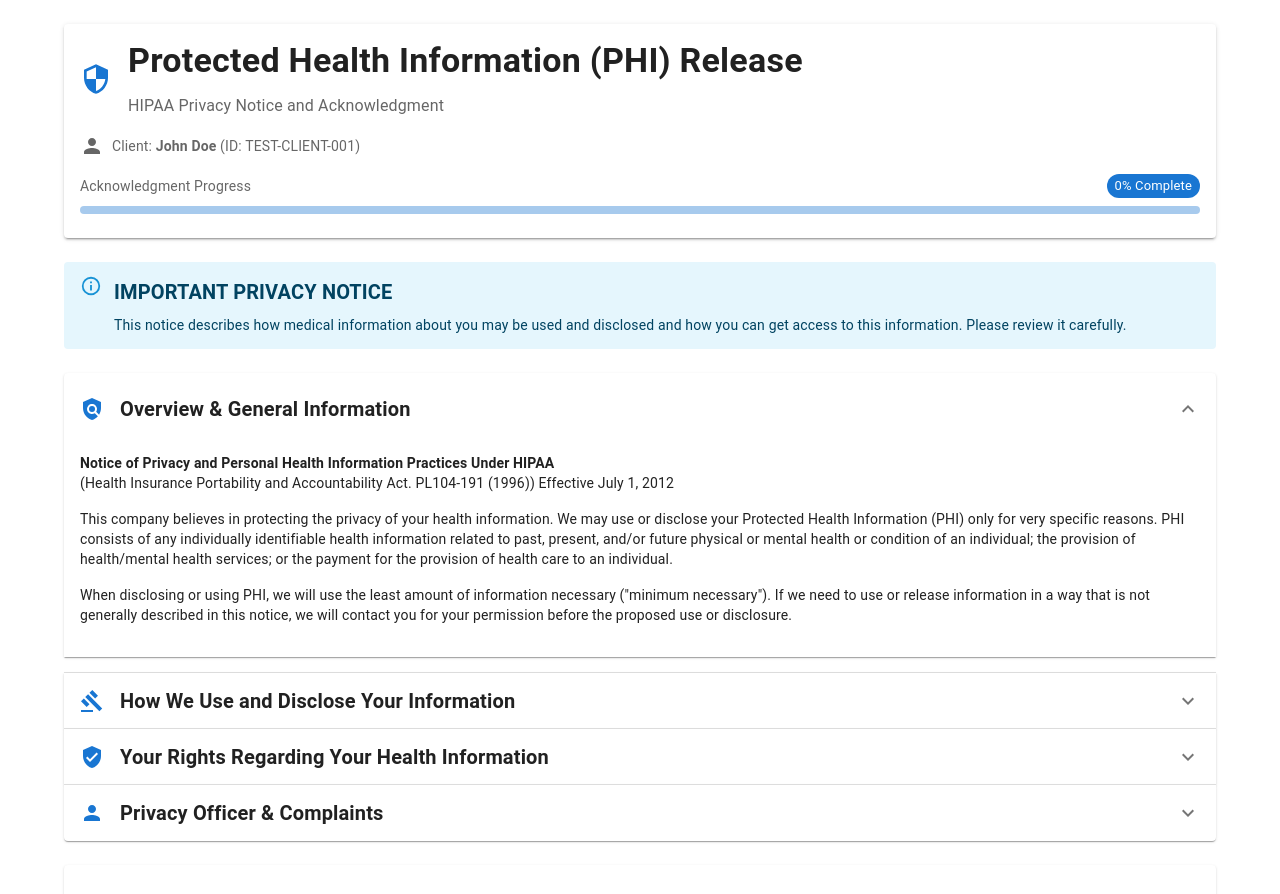
Test: ReleasePHI - Protected Health Information Release Form › Accordion Interaction › T9: displays patient rights when rights accordion is expanded
The width and height of the screenshot is (1280, 894).
Step 1. Click the button "Your Rights Regarding Your Health Information" → (334, 757), box top-left (64, 729), bottom-right (1216, 785)
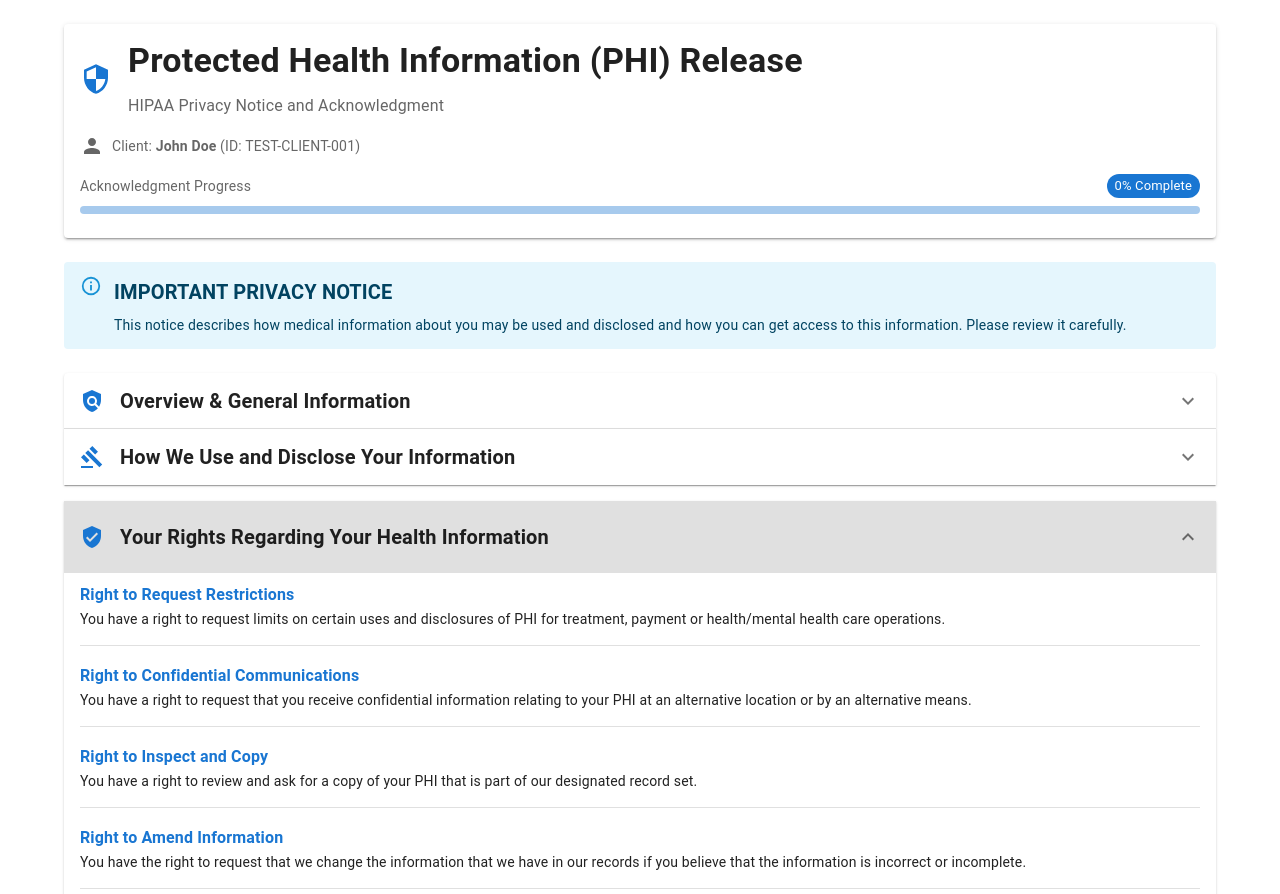
Expected: the heading "Right to Request Restrictions" is shown, top-left (80, 585), bottom-right (294, 604)
Expected: the heading "Right to Confidential Communications" is shown, top-left (80, 666), bottom-right (359, 685)
Expected: the heading "Right to Inspect and Copy" is shown, top-left (80, 747), bottom-right (268, 766)
